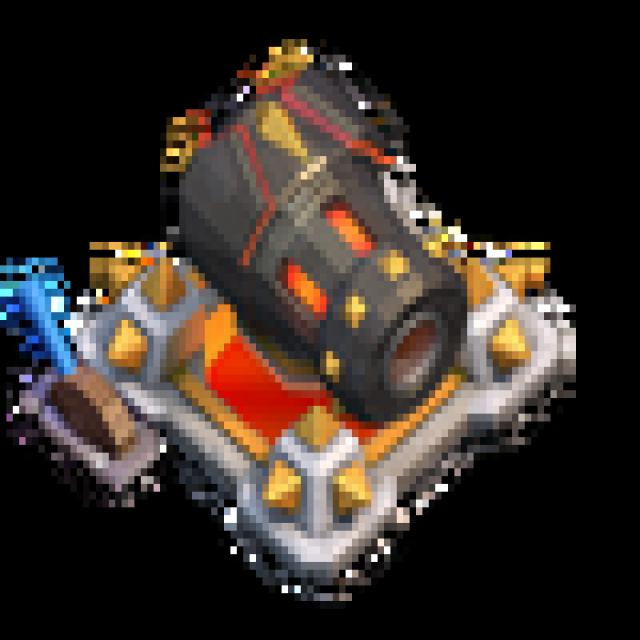cannon: (7, 27, 583, 599)
